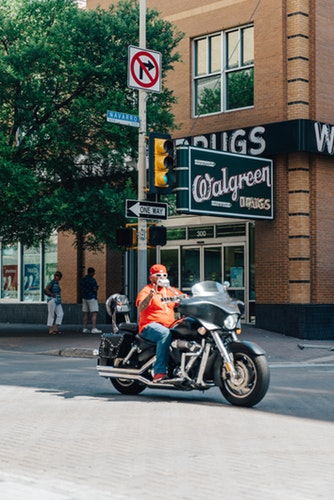helmet: (150, 261, 171, 278)
